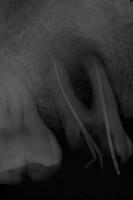Dental Caries: (46, 29, 107, 107)
